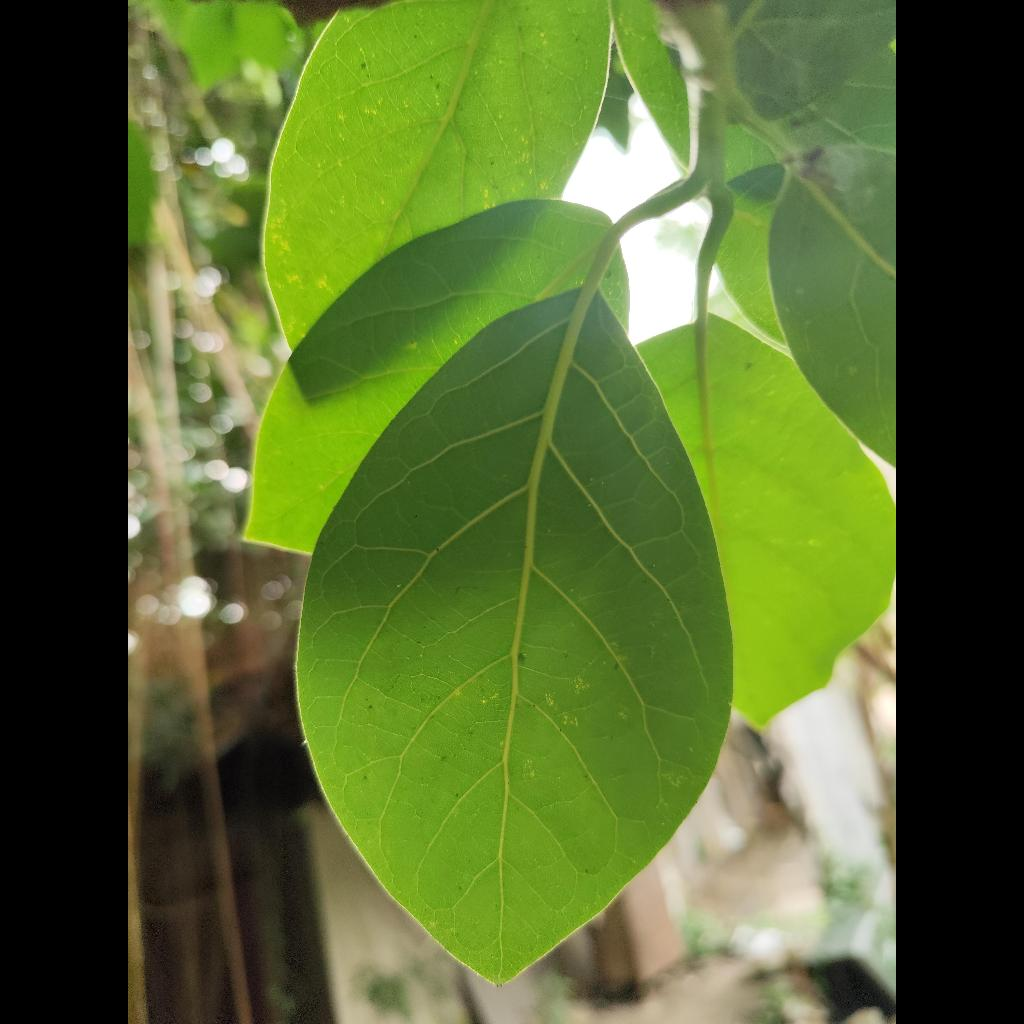hoja_sana: (297, 291, 732, 982)
